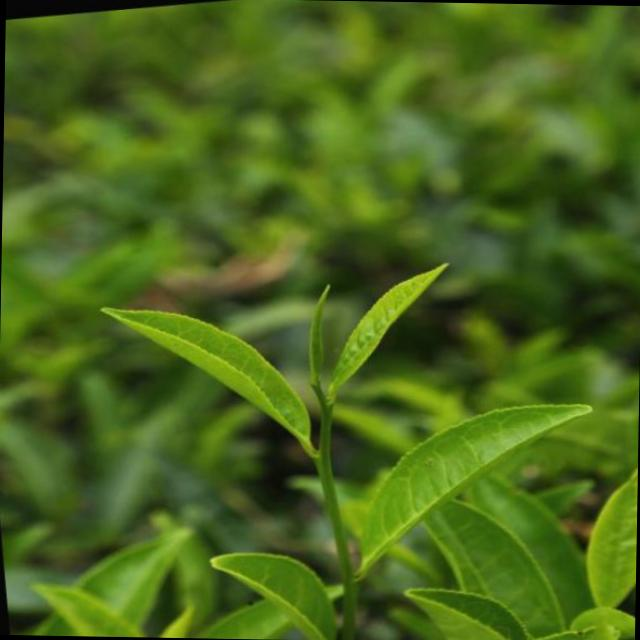Stem: (314, 455, 334, 493)
